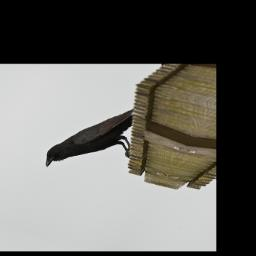Crow: (38, 96, 160, 183)
